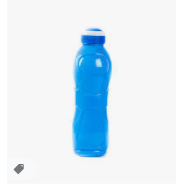Bottle: (73, 28, 108, 159)
